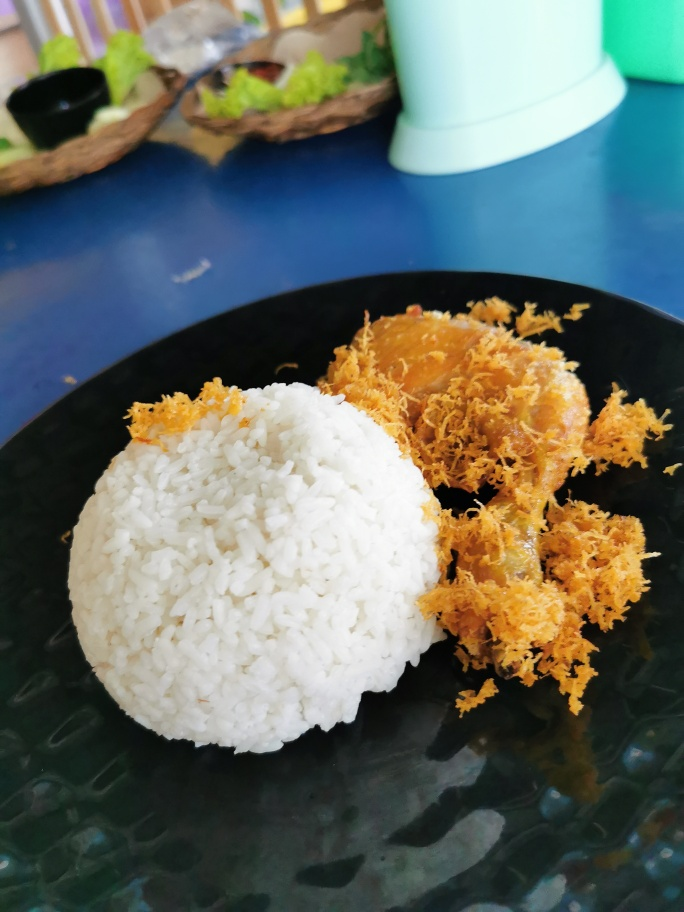ayam goreng: (329, 297, 621, 657)
nasi putih: (62, 369, 449, 777)
